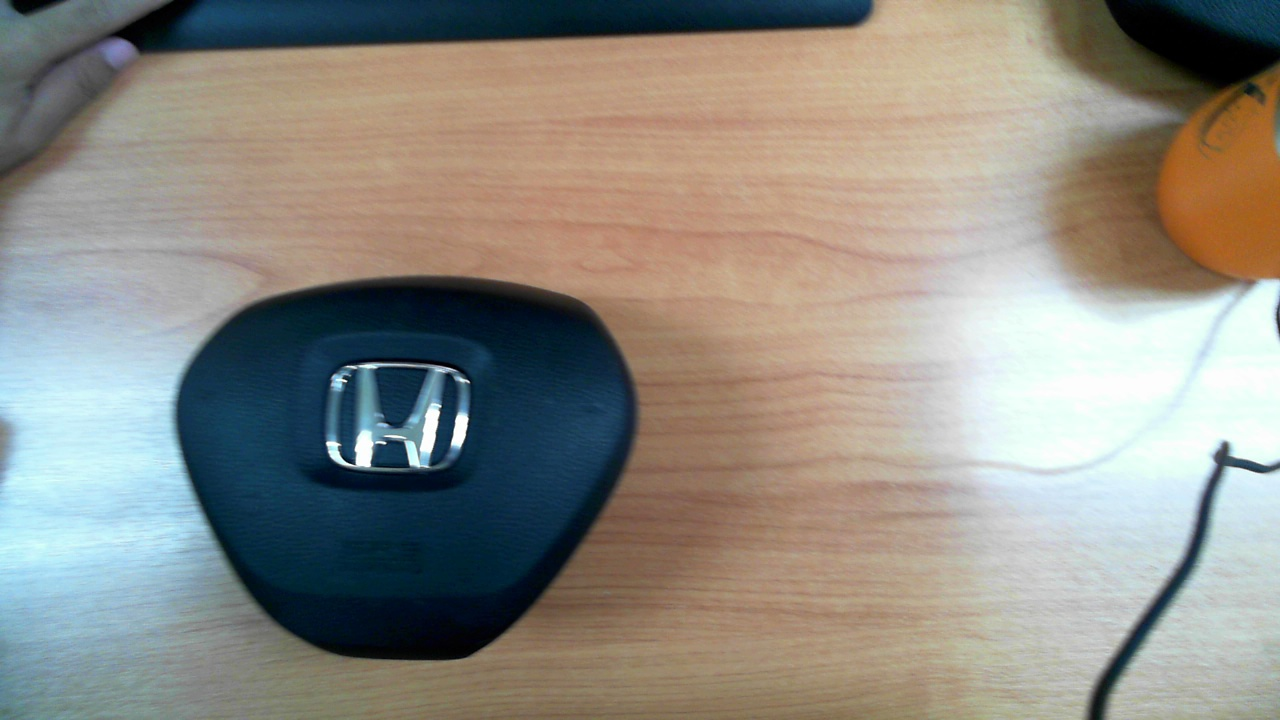Airbag: (174, 275, 639, 661)
Honda: (325, 361, 471, 472)
